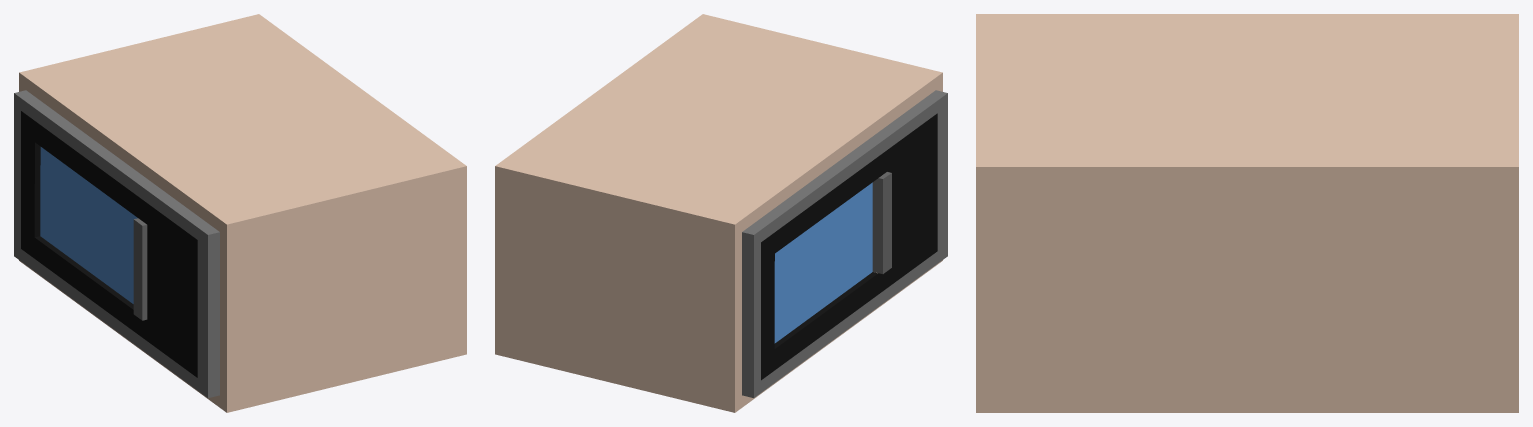
The model's file is Microwave.FBX.
3 views of the same model, side by side, from view 1: azimuth 30°, elevation 25°; view 2: azimuth 150°, elevation 25°; view 3: azimuth 270°, elevation 25° (orthographic). The views are drawn at different scales.
Parts seen in each view (by area): view 1: Microwave; view 2: Microwave; view 3: Microwave.
Part boxes in pixels (left/top/right/bottom): Microwave: left=14, top=14, right=466, bottom=412; Microwave: left=495, top=14, right=947, bottom=412; Microwave: left=976, top=14, right=1518, bottom=412.
Size of the model in its own units: 21.4 by 15 by 30.
